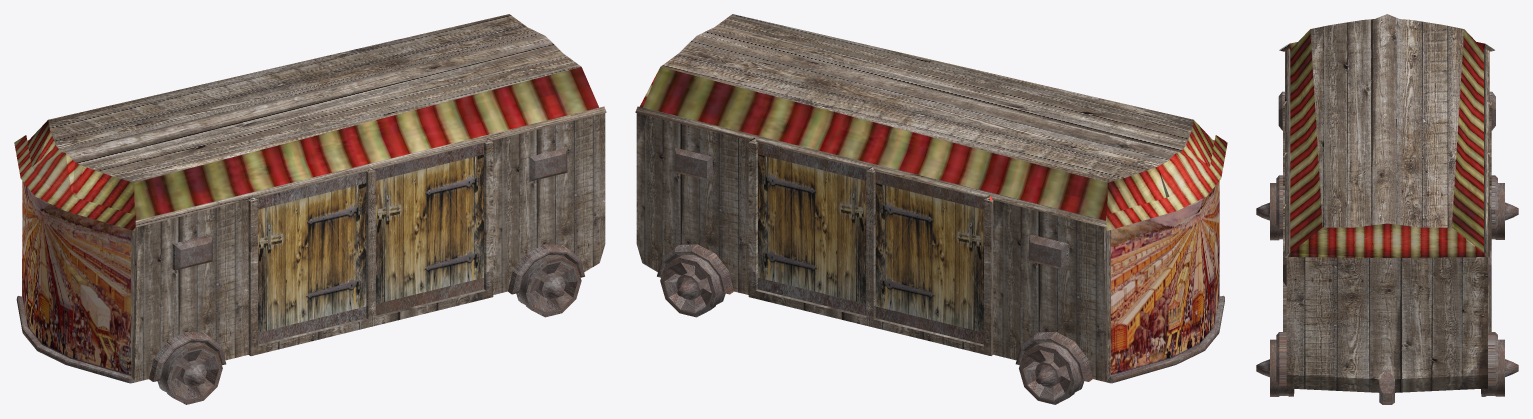
File: Trailer.FBX
The picture shows the model from 3 angles, left to right: view 1: azimuth 30°, elevation 25°; view 2: azimuth 150°, elevation 25°; view 3: azimuth 270°, elevation 25°; orthographic projection. The views are drawn at different scales.
Parts seen in each view (by area): view 1: Box001, Cylinder001; view 2: Box001, Cylinder001; view 3: Box001, Cylinder001.
Boxes of the visible parts, <box> form: Box001: <box>14,14,606,383</box>; Cylinder001: <box>157,254,581,404</box>; Box001: <box>635,14,1227,383</box>; Cylinder001: <box>660,254,1084,404</box>; Box001: <box>1276,14,1497,404</box>; Cylinder001: <box>1256,183,1518,396</box>.
Size of the model in its own units: 150 by 56.76 by 69.34.
2 materials, 2 textured.
